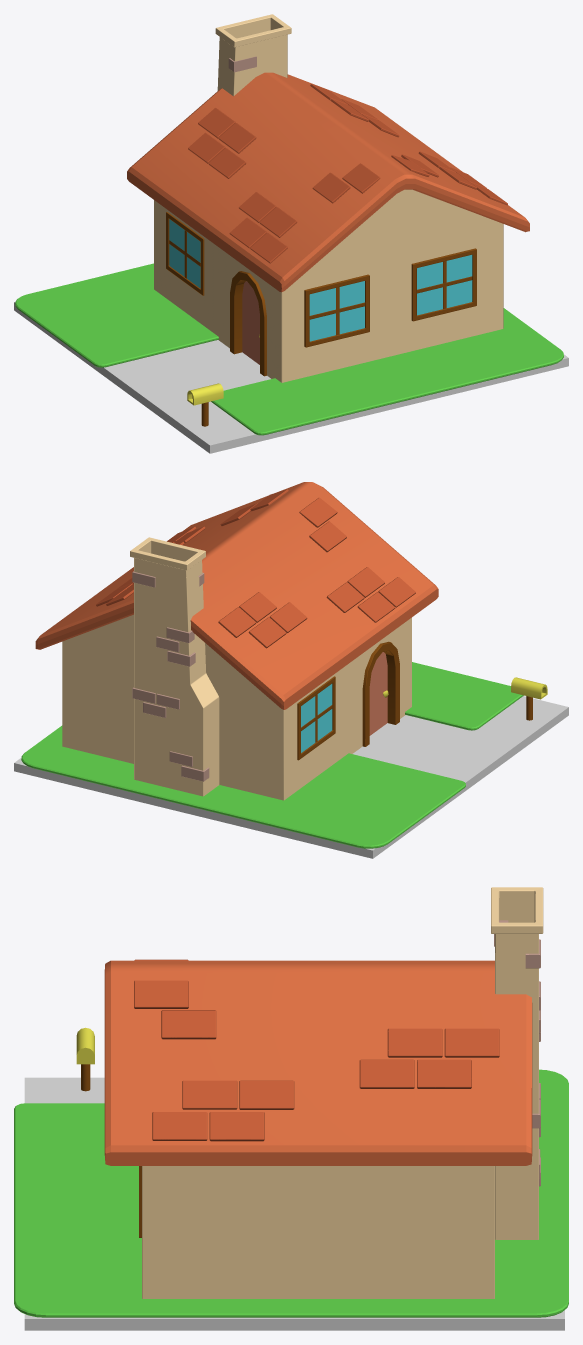
Rendered from house.fbx.
3 renders of one model, top to bottom at view 1: azimuth 30°, elevation 25°; view 2: azimuth 150°, elevation 25°; view 3: azimuth 270°, elevation 25°, orthographic. The views are drawn at different scales.
Visible parts, largest first — view 1: 002.Roof, walls, grass, base, Plane.025, glass (×3), frame (×3), 008.Chimney, polySurface6, door, polySurface1; view 2: 002.Roof, walls, grass, 008.Chimney, base, Plane.025, 009. Chimeny Tiles.006, polySurface6, glass, door, frame, polySurface1; view 3: 002.Roof, walls, grass, Plane.025, base, 008.Chimney, 009. Chimeny Tiles.006, polySurface1.
Boxes of the visible parts, left/top/right/bottom form: 002.Roof: left=127, top=72, right=529, bottom=292; walls: left=154, top=189, right=503, bottom=382; grass: left=15, top=263, right=563, bottom=435; base: left=14, top=301, right=568, bottom=453; Plane.025: left=188, top=84, right=507, bottom=263; glass (×3): left=169, top=219, right=472, bottom=341; frame (×3): left=166, top=212, right=476, bottom=347; 008.Chimney: left=215, top=14, right=291, bottom=96; polySurface6: left=230, top=271, right=266, bottom=376; door: left=242, top=281, right=259, bottom=364; polySurface1: left=187, top=383, right=223, bottom=405; 002.Roof: left=35, top=482, right=438, bottom=709; walls: left=62, top=614, right=411, bottom=800; grass: left=21, top=662, right=523, bottom=848; 008.Chimney: left=130, top=537, right=219, bottom=796; base: left=14, top=696, right=568, bottom=858; Plane.025: left=96, top=489, right=415, bottom=648; 009. Chimeny Tiles.006: left=132, top=571, right=209, bottom=781; polySurface6: left=362, top=641, right=399, bottom=746; glass: left=301, top=684, right=332, bottom=752; door: left=369, top=652, right=387, bottom=735; frame: left=297, top=676, right=335, bottom=760; polySurface1: left=511, top=677, right=547, bottom=699; 002.Roof: left=104, top=960, right=532, bottom=1165; walls: left=142, top=1166, right=494, bottom=1298; grass: left=14, top=1069, right=568, bottom=1317; Plane.025: left=134, top=959, right=499, bottom=1141; base: left=24, top=1077, right=564, bottom=1330; 008.Chimney: left=491, top=887, right=543, bottom=1239; 009. Chimeny Tiles.006: left=494, top=920, right=540, bottom=1186; polySurface1: left=76, top=1027, right=94, bottom=1064.
Bounding box in the file's own units: 468 × 296 × 447.
